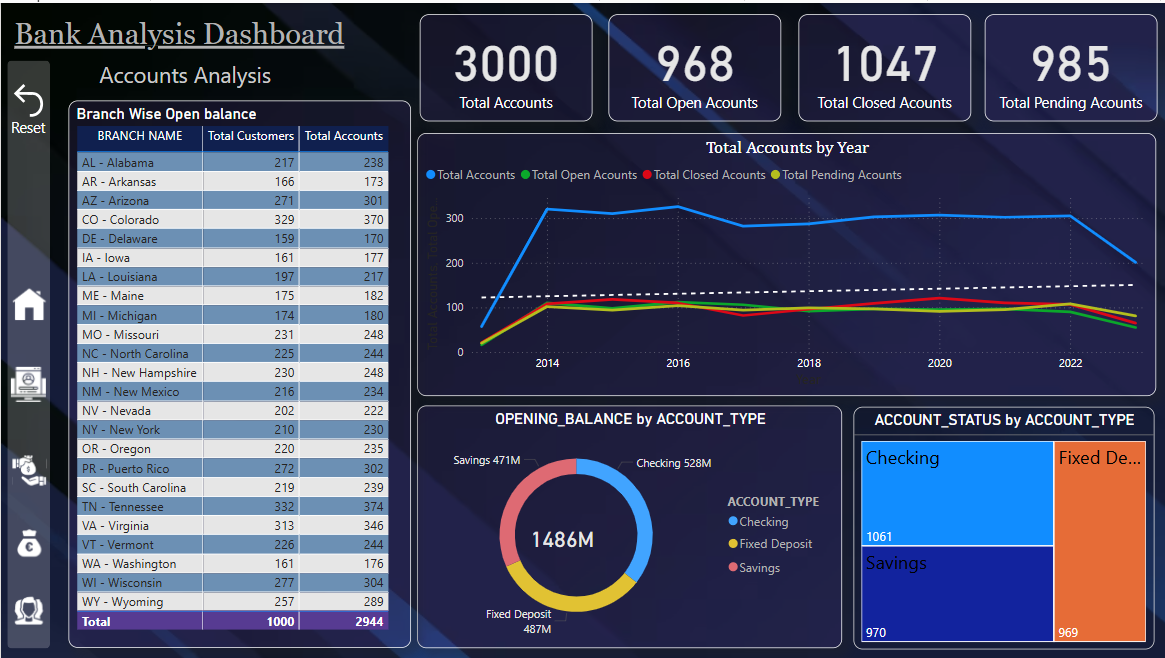

Layout of this report page (visuals, bound fields, positions):
{"tool":"powerbi","page":{"name":"Accounts page","canvas":[1280,720],"ordinal":2},"visuals":[{"type":"textbox","box":[10.1,11.5,413.8,57.7],"z":0},{"type":"shape","box":[7.2,62.7,47,645.4],"z":1000},{"type":"card","fields":{"Values":["Measure Table.Total Accounts"]},"box":[460.2,11.9,189.9,117.3],"z":2000},{"type":"card","fields":{"Values":["Measure Table.Total Open Acounts"]},"box":[667.2,11.9,189.9,117.3],"z":3000},{"type":"card","fields":{"Values":["Measure Table.Total Closed Acounts"]},"box":[875.5,11.9,189.9,117.3],"z":4000},{"type":"card","fields":{"Values":["Measure Table.Total Pending Acounts"]},"box":[1079.9,11.9,189.9,117.3],"z":5000},{"type":"donutChart","title":"OPENING_BALANCE by ACCOUNT_TYPE","fields":{"Y":["Sum(Bank_Account_Data.OPENING_BALANCE)"],"Category":["Bank_Account_Data.ACCOUNT_TYPE"]},"box":[457.5,441.7,466.8,266.3],"z":6000},{"type":"card","fields":{"Values":["Sum(Bank_Account_Data.OPENING_BALANCE)"]},"box":[563.7,565.2,105.2,46.1],"z":7000},{"type":"lineChart","title":"Total Accounts by Year","fields":{"Category":["Bank_Account_Data.Year"],"Y":["Measure Table.Total Accounts","Measure Table.Total Open Acounts","Measure Table.Total Closed Acounts","Measure Table.Total Pending Acounts"]},"box":[457.5,142.4,810.9,288.8],"z":8000},{"type":"treemap","title":"ACCOUNT_STATUS by ACCOUNT_TYPE","fields":{"Group":["Bank_Account_Data.ACCOUNT_TYPE"],"Values":["CountNonNull(Bank_Account_Data.ACCOUNT_STATUS)"]},"box":[935.7,442.6,330.2,266.7],"z":9000},{"type":"tableEx","title":"Branch Wise Open balance","fields":{"Values":["Bank_Branch_Data.Branch_name_merged","Measure Table.Total Customers","Measure Table.Total Accounts"]},"box":[73.7,107.1,375.7,601],"z":10000},{"type":"actionButton","box":[7.2,393.3,47.1,49.5],"z":11000},{"type":"actionButton","box":[8.4,645.4,45.8,44.6],"z":12000},{"type":"actionButton","box":[8.4,564.6,45.8,59.1],"z":13000},{"type":"actionButton","box":[8.4,305.2,45.8,54.3],"z":14000},{"type":"actionButton","box":[8.4,481.4,45.8,62.7],"z":15000},{"type":"actionButton","box":[7,62.6,47.3,87.7],"z":16000},{"type":"textbox","box":[102.6,57,228.1,49.9],"z":17000}]}

Visuals, with their boxes on the page's 1280x720 design canvas (x1, y1, x2, y2). These are canvas units, not pixel positions in the 1165x658 screenshot, which may show the page scaled, cropped or inside an application window:
textbox: select_region(10, 12, 424, 69)
shape: select_region(7, 63, 54, 708)
card - Measure Table.Total Accounts: select_region(460, 12, 650, 129)
card - Measure Table.Total Open Acounts: select_region(667, 12, 857, 129)
card - Measure Table.Total Closed Acounts: select_region(876, 12, 1065, 129)
card - Measure Table.Total Pending Acounts: select_region(1080, 12, 1270, 129)
"OPENING_BALANCE by ACCOUNT_TYPE" donutChart: select_region(458, 442, 924, 708)
card - Sum(Bank_Account_Data.OPENING_BALANCE): select_region(564, 565, 669, 611)
"Total Accounts by Year" lineChart: select_region(458, 142, 1268, 431)
"ACCOUNT_STATUS by ACCOUNT_TYPE" treemap: select_region(936, 443, 1266, 709)
"Branch Wise Open balance" tableEx: select_region(74, 107, 449, 708)
actionButton: select_region(7, 393, 54, 443)
actionButton: select_region(8, 645, 54, 690)
actionButton: select_region(8, 565, 54, 624)
actionButton: select_region(8, 305, 54, 360)
actionButton: select_region(8, 481, 54, 544)
actionButton: select_region(7, 63, 54, 150)
textbox: select_region(103, 57, 331, 107)
